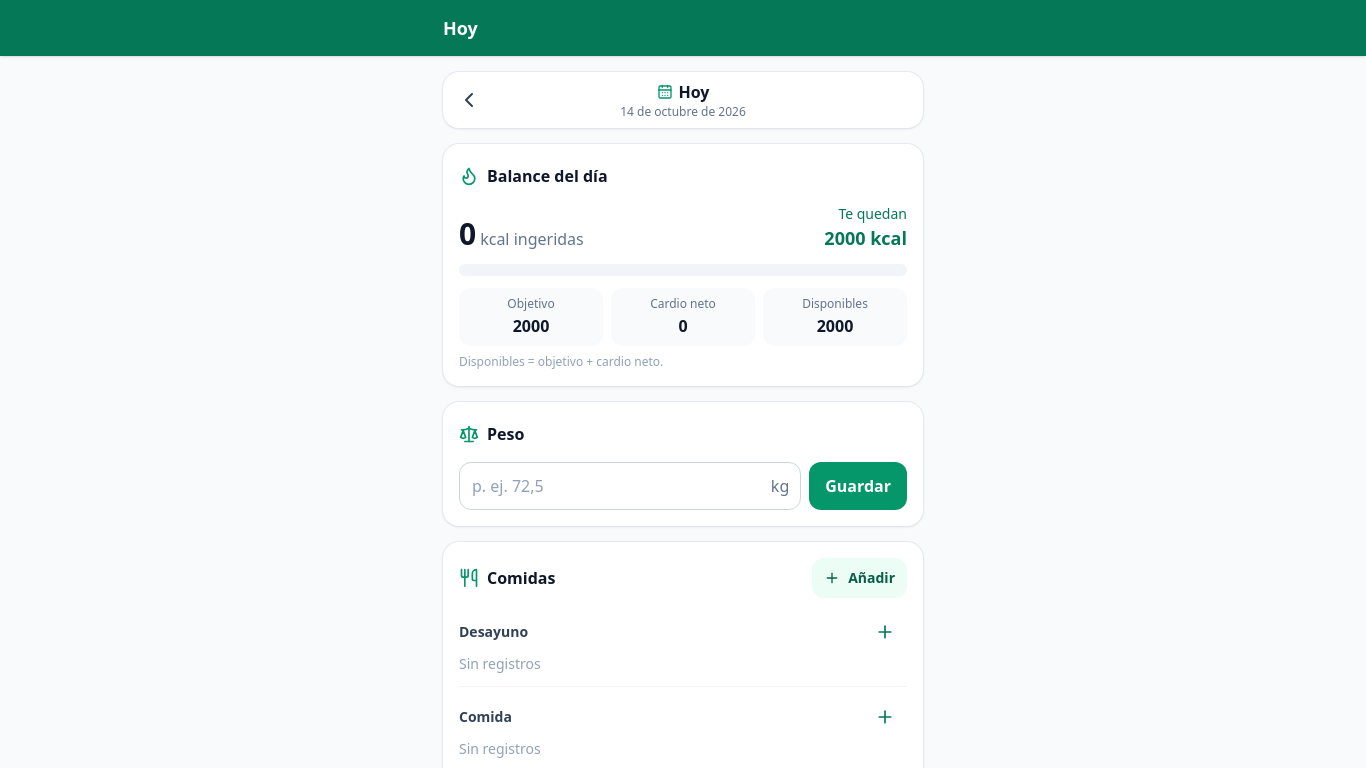
Test: <TodayScreen> weight › saves a quick weight typed with a decimal comma and reloads the day
This screenshot has width=1366, height=768.
Step 1. Type "72,5" into the field named "Peso en kg" → (630, 486), box x1=459 y1=462 x2=801 y2=510
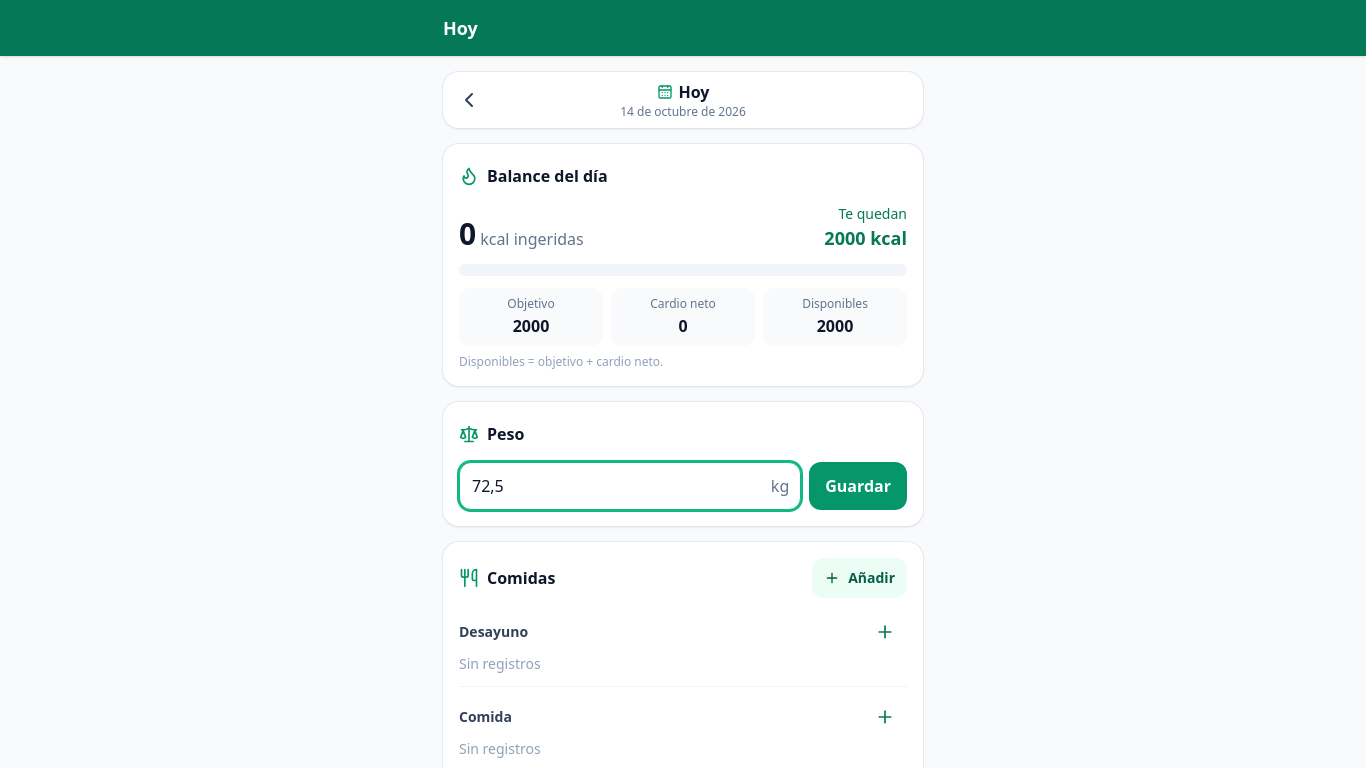
Step 2. Click the button "Guardar" → click(858, 486), box x1=809 y1=462 x2=907 y2=510
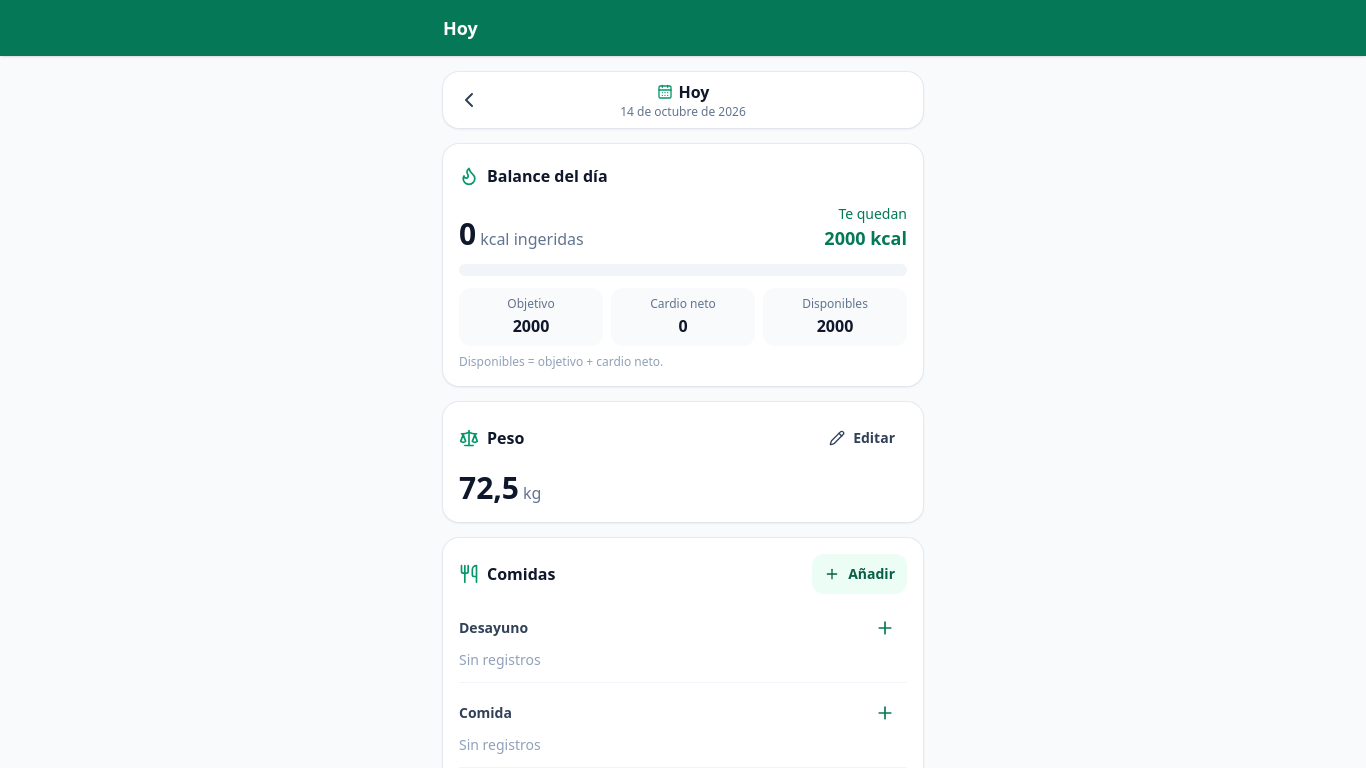
expect the button with aria-label "Peso: 72,5 kg. Editar" is shown: met, box x1=459 y1=470 x2=907 y2=506
